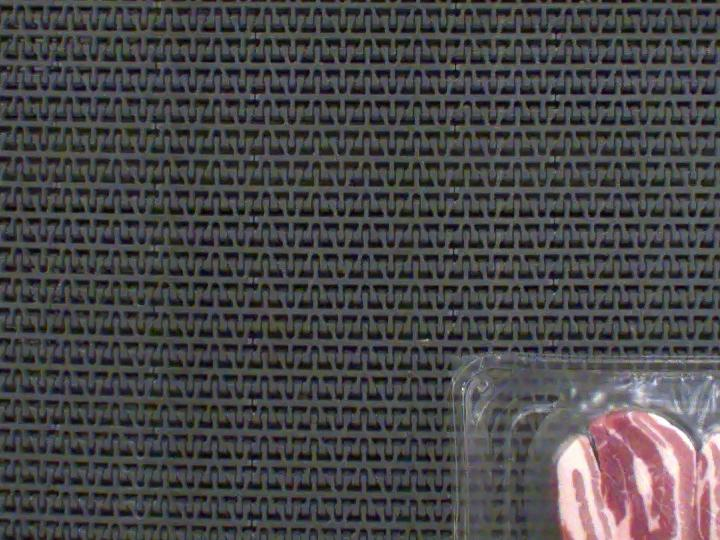unsealed: (497, 355, 720, 540)
